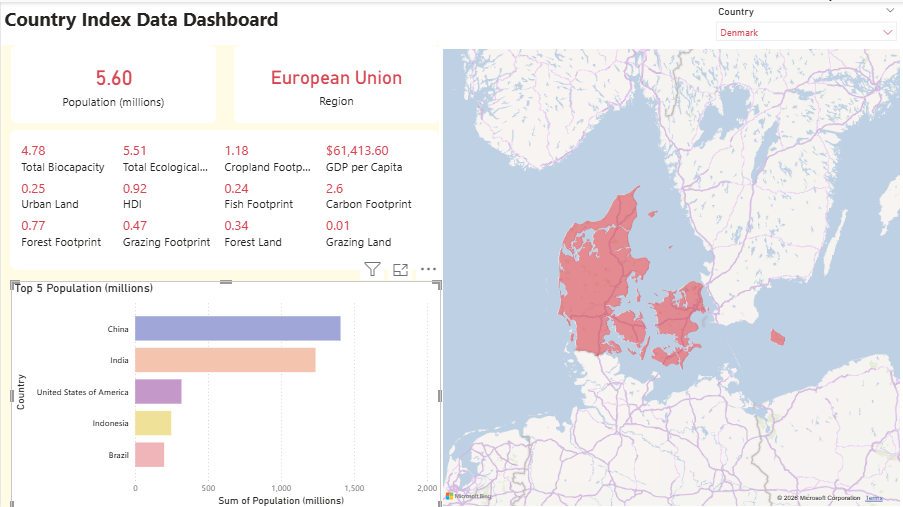

The page's visual inventory and layout, read from the dashboard file:
{"tool":"powerbi","page":{"name":"Page 1","canvas":[1280,720],"ordinal":0},"visuals":[{"type":"textbox","box":[0,0,1279.8,60.9],"z":0},{"type":"slicer","fields":{"Values":["countries.Country"]},"box":[1003.5,0,276.4,60.9],"z":1000},{"type":"filledMap","fields":{"Category":["countries.Country"]},"box":[620.8,60.9,659.1,659.1],"z":2000},{"type":"card","fields":{"Values":["Sum(countries.Population (millions))"]},"box":[14.2,60.9,290.6,110.6],"z":3000},{"type":"card","fields":{"Values":["Min(countries.Region)"]},"box":[330.2,60.9,290.6,110.6],"z":4000},{"type":"multiRowCard","fields":{"Values":["countries.Total Biocapacity","countries.Total Ecological Footprint","countries.Cropland Footprint","countries.GDP per Capita","countries.Urban Land","countries.HDI","countries.Fish Footprint","countries.Carbon Footprint","countries.Forest Footprint","countries.Grazing Footprint","countries.Forest Land","countries.Grazing Land"]},"box":[13.4,181.4,608.1,198.2],"z":5000},{"type":"barChart","title":"Top 5 Population (millions) ","fields":{"Category":["countries.Country"],"Y":["Sum(countries.Population (millions))"]},"box":[13.4,394.8,608.1,325.9],"z":6000}]}

Visuals, with their boxes in screenshot pixels (x1, y1, x2, y2), scaled from the page's 1280x720 canvas onto the 903x507 screenshot:
textbox: x1=0, y1=0, x2=902, y2=43
slicer - countries.Country: x1=708, y1=0, x2=902, y2=43
filledMap - countries.Country: x1=438, y1=43, x2=902, y2=506
card - Sum(countries.Population (millions)): x1=10, y1=43, x2=215, y2=121
card - Min(countries.Region): x1=233, y1=43, x2=438, y2=121
multiRowCard - countries.Total Biocapacity x countries.Total Ecological Footprint: x1=9, y1=128, x2=438, y2=267
"Top 5 Population (millions) " barChart: x1=9, y1=278, x2=438, y2=506
